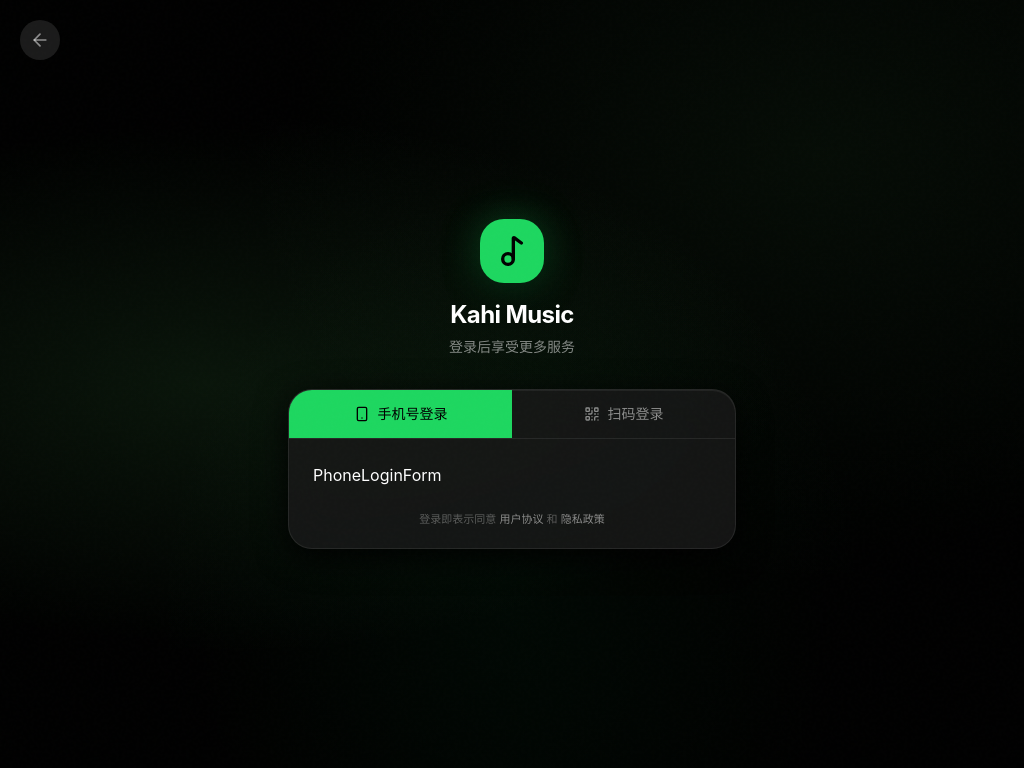
Test: LoginPage session restoration gate › switches login panels with native tab state
Expected: the text "PhoneLoginForm" is shown, [313,465,442,485]
Click the tab "扫码登录". click: click(624, 414)
box: [512,390,735,438]
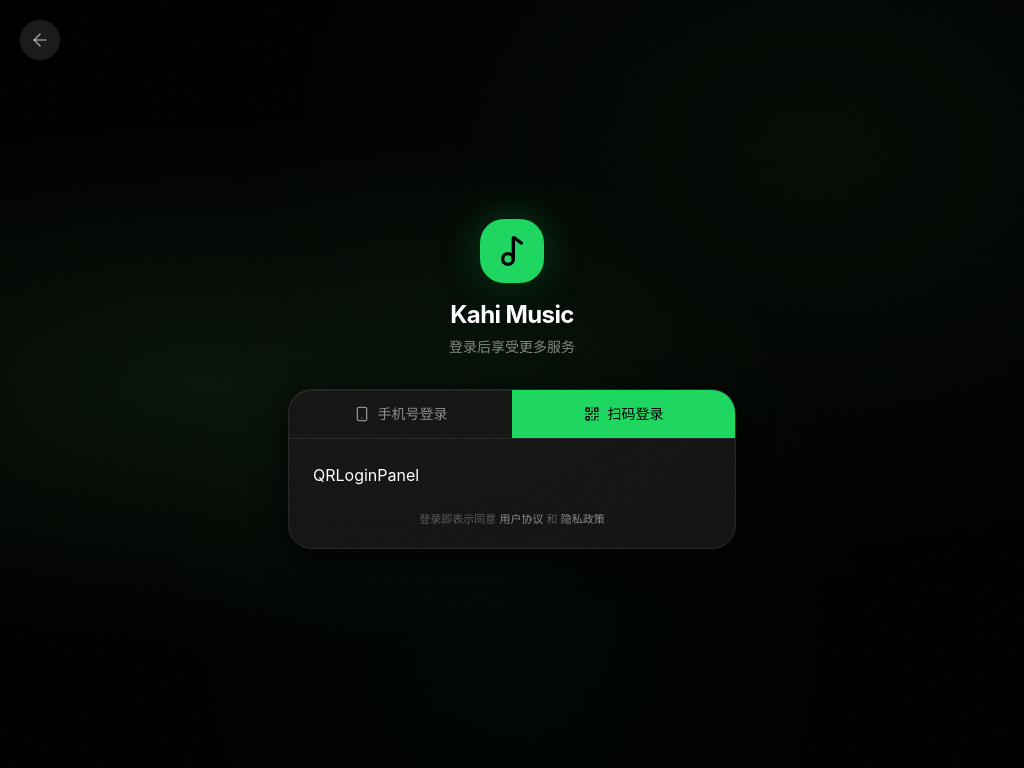
Expected: the text "QRLoginPanel" is shown, [313,465,419,485]
Expected: the text "PhoneLoginForm" is gone
